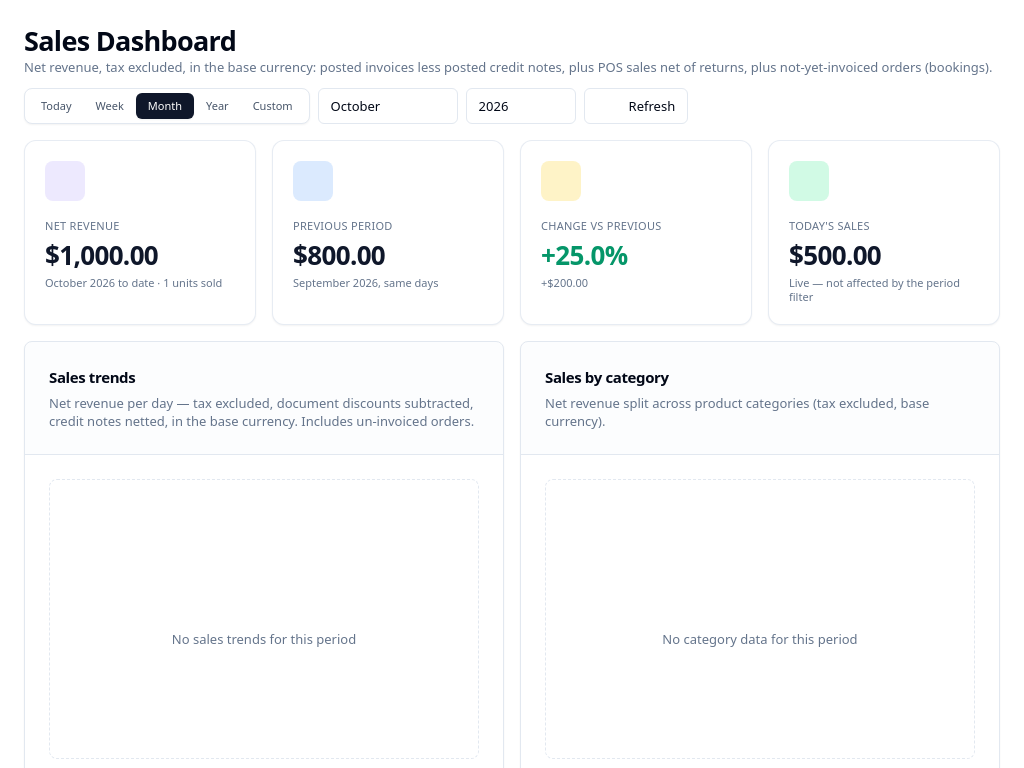
Test case: SalesDashboard KPI row follows the selected period (#358) › switches the KPI row to the year when the Year button is pressed
Expected: the element with test id "kpi-selected" shows "1,000.00", [45,237,158,273]
Click the button "year". click: (217, 106)
box: [194,93,241,119]
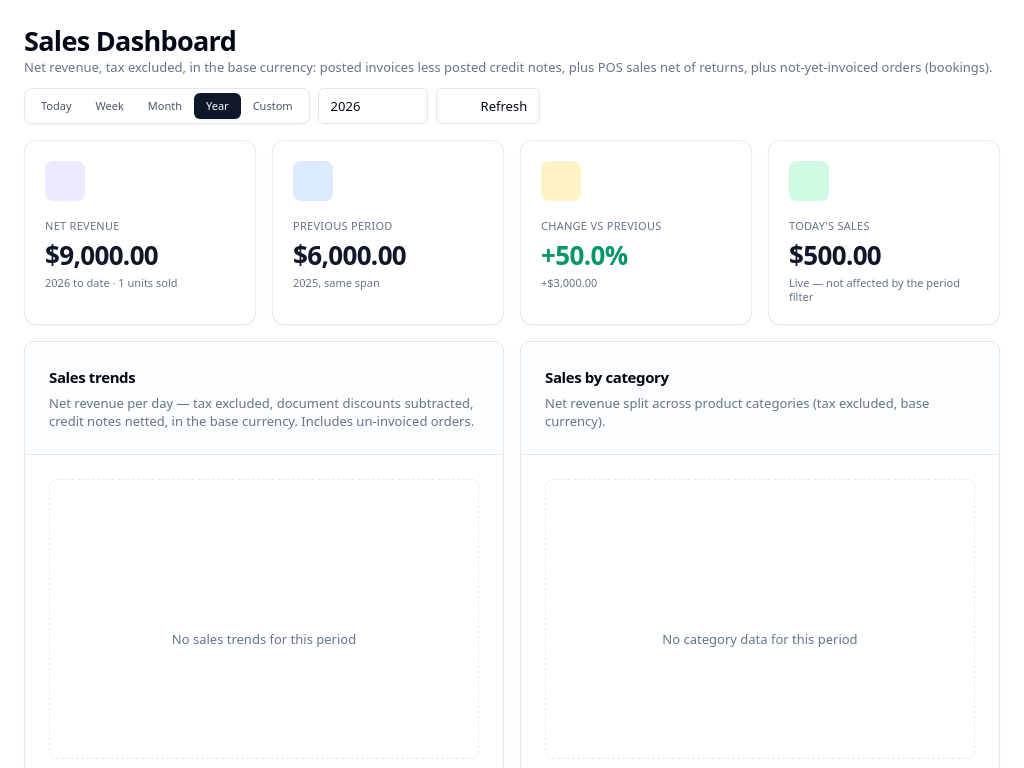
Now the element with test id "kpi-selected" shows "9,000.00", box [45,237,158,273]
Now the element with test id "kpi-previous" shows "6,000.00", box [293,237,406,273]
Now the element with test id "kpi-change" shows "+50.0%", box [541,237,627,273]
